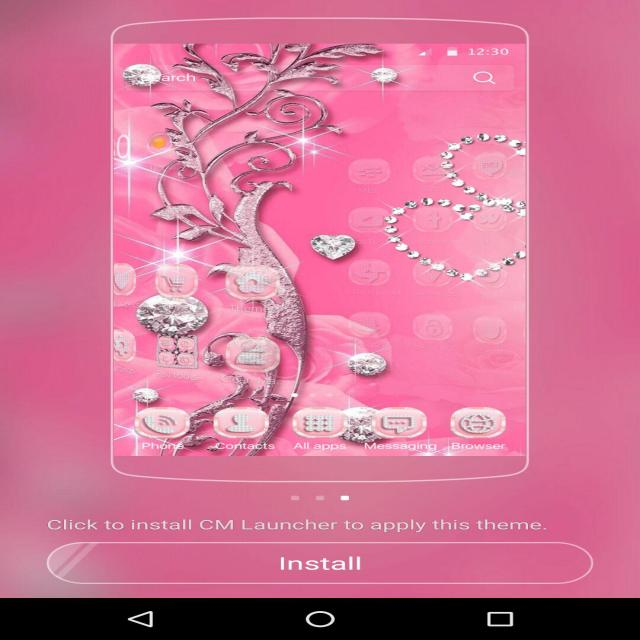button: (41, 542, 594, 588), (334, 492, 356, 503), (309, 492, 326, 504), (286, 491, 300, 503)
icon: (448, 408, 510, 439), (135, 407, 192, 437), (215, 408, 272, 436), (296, 409, 341, 438), (376, 411, 425, 434)
image: (97, 10, 542, 486)
text: (46, 516, 554, 538), (274, 553, 366, 575), (212, 436, 283, 457), (355, 442, 446, 454), (447, 440, 512, 455), (289, 439, 350, 454), (464, 46, 514, 60), (135, 442, 187, 454)
